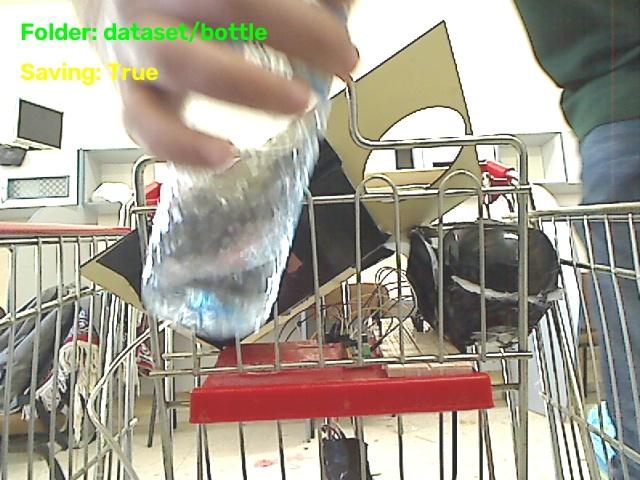Bottle: (141, 42, 329, 344)
